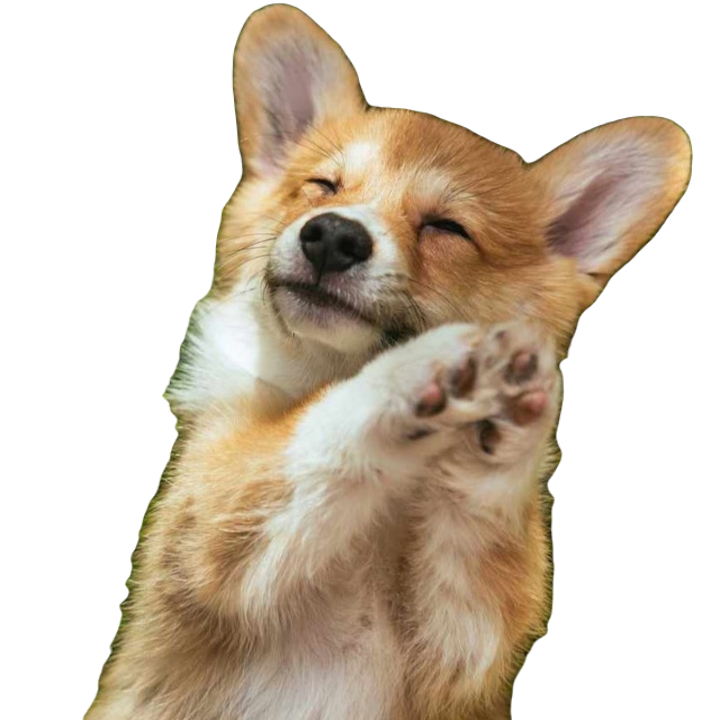Dog: (86, 1, 696, 719)
